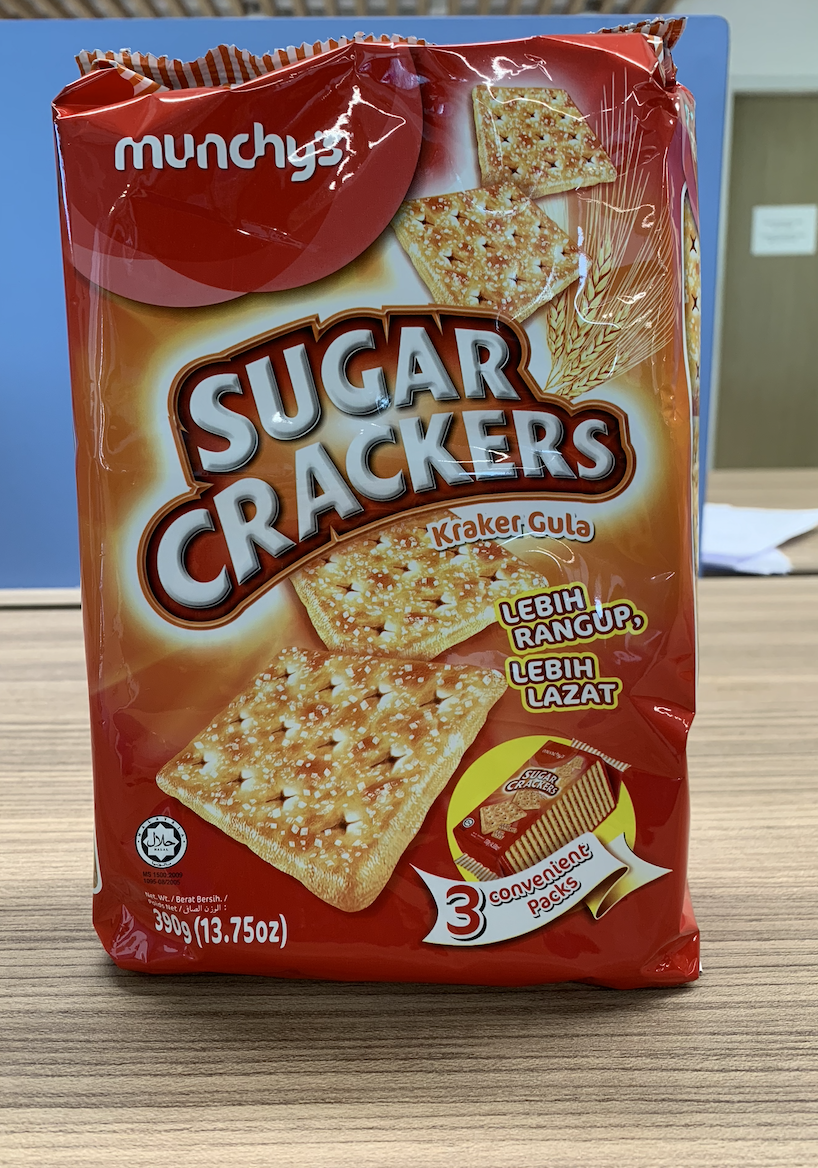crackers_300g-399g: (111, 89, 671, 950)
